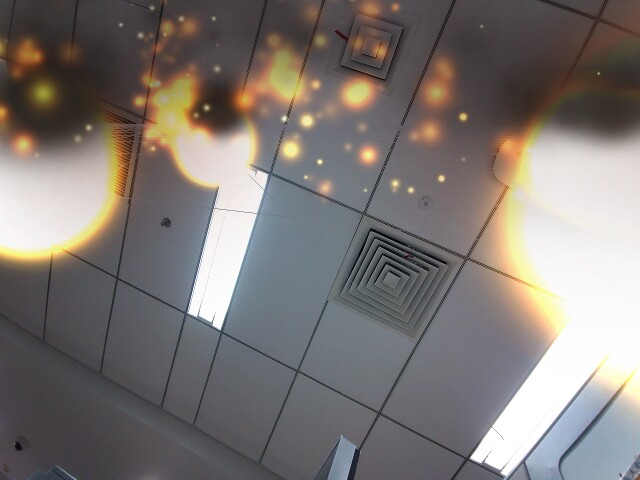fire: (510, 77, 640, 410), (0, 78, 127, 273), (518, 86, 634, 230), (172, 98, 259, 189)
